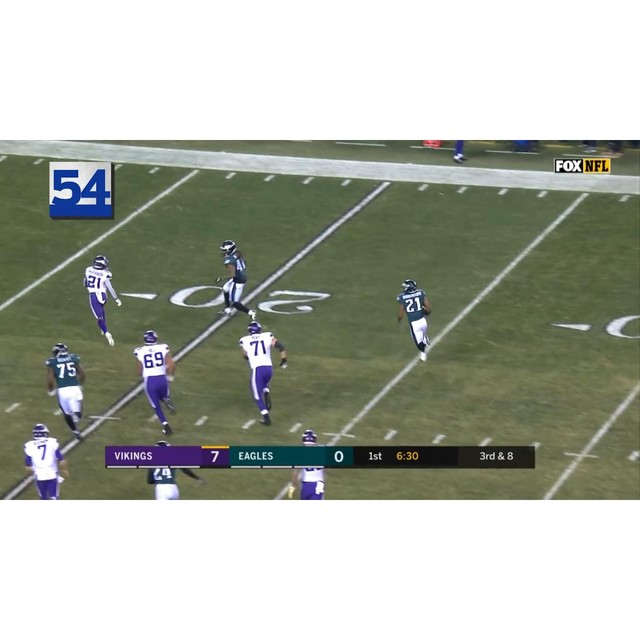american-football-player: (238, 320, 289, 427), (131, 329, 178, 436), (42, 344, 89, 439), (81, 255, 123, 347), (22, 423, 67, 500), (217, 241, 257, 318), (396, 280, 434, 361), (146, 467, 186, 499)
